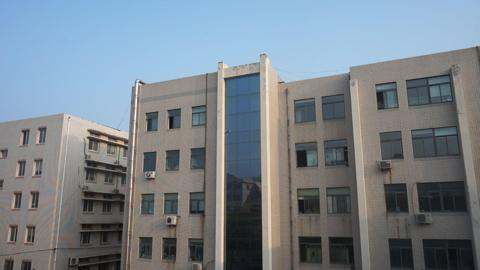UAV: (225, 130, 230, 135)
